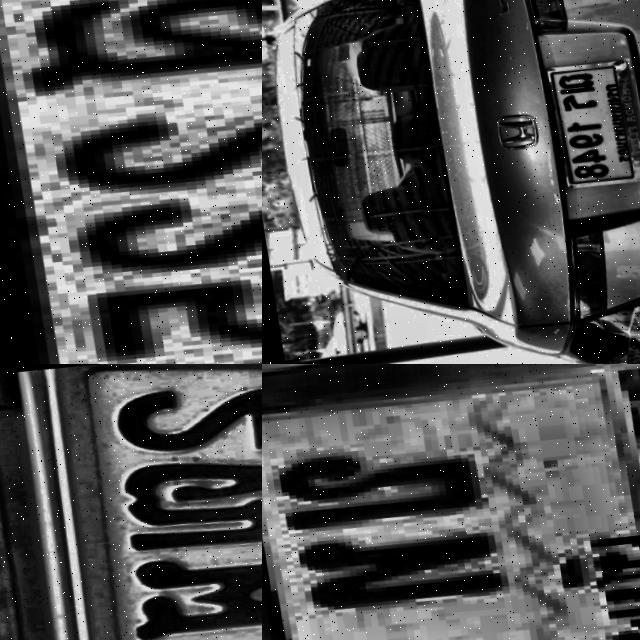license-plate: (262, 364, 640, 640), (0, 0, 262, 364), (0, 364, 262, 640), (538, 54, 640, 191)
